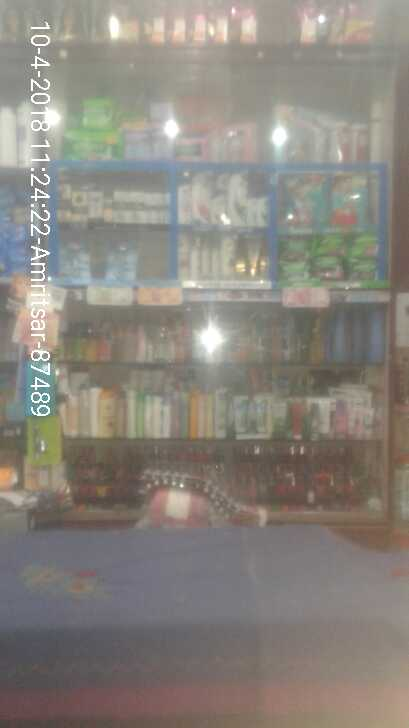venus: (58, 230, 92, 277), (107, 236, 137, 279)
